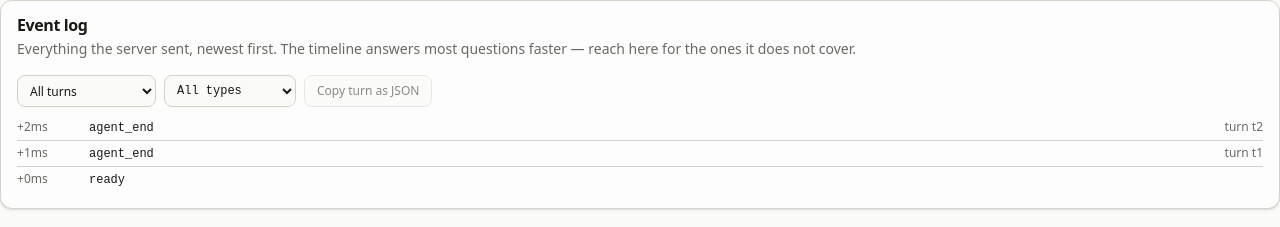
Test case: EventLog › copies the selected turn as JSON
The image size is (1280, 227).
Expected: the button with test id "copy-turn" is disabled, left=304, top=75, right=432, bottom=107
Select "Turn t2" in the dropdown named "Filter by turn" at point(86, 91), box left=17, top=75, right=156, bottom=107
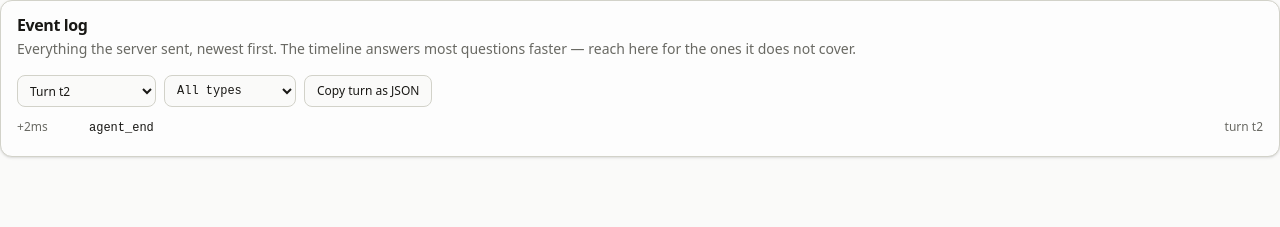
Click the button with test id "copy-turn" at point(368, 91), box left=304, top=75, right=432, bottom=107
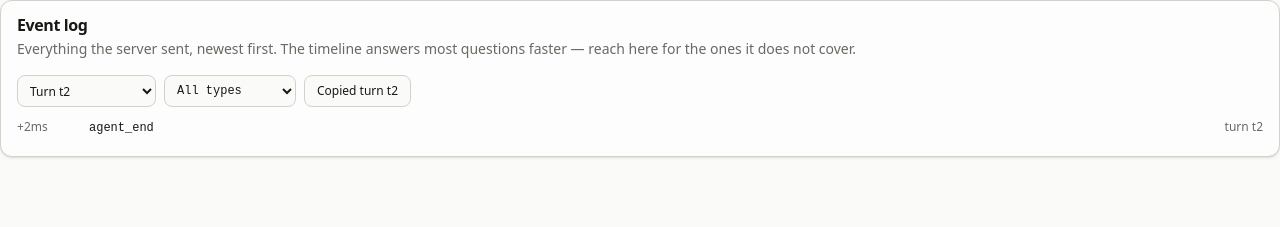
Expected: the button with test id "copy-turn" reads "Copied turn t2", left=304, top=75, right=411, bottom=107
